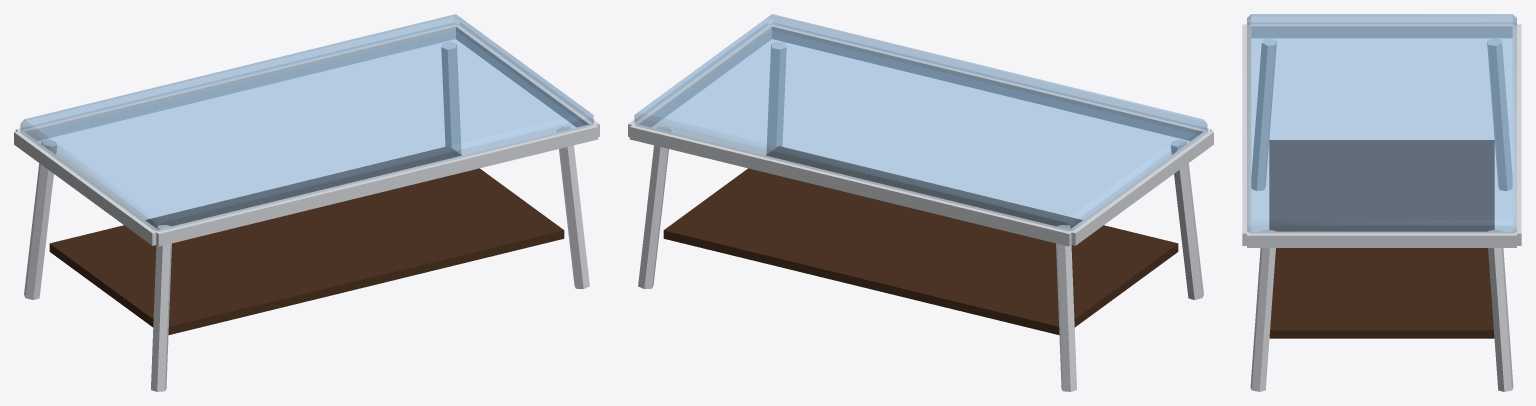
Rendered from table_coffee_table.glb.
3 renders of one model, left to right at view 1: azimuth 30°, elevation 25°; view 2: azimuth 150°, elevation 25°; view 3: azimuth 270°, elevation 25°, orthographic. The views are drawn at different scales.
Parts seen in each view (by area): view 1: table_coffee_table; view 2: table_coffee_table; view 3: table_coffee_table.
Part boxes in pixels (left/top/right/bottom): table_coffee_table: left=14, top=14, right=599, bottom=391; table_coffee_table: left=628, top=14, right=1213, bottom=391; table_coffee_table: left=1242, top=14, right=1521, bottom=391.
Bounding box in the file's own units: 1.12 × 0.4219 × 0.62.
